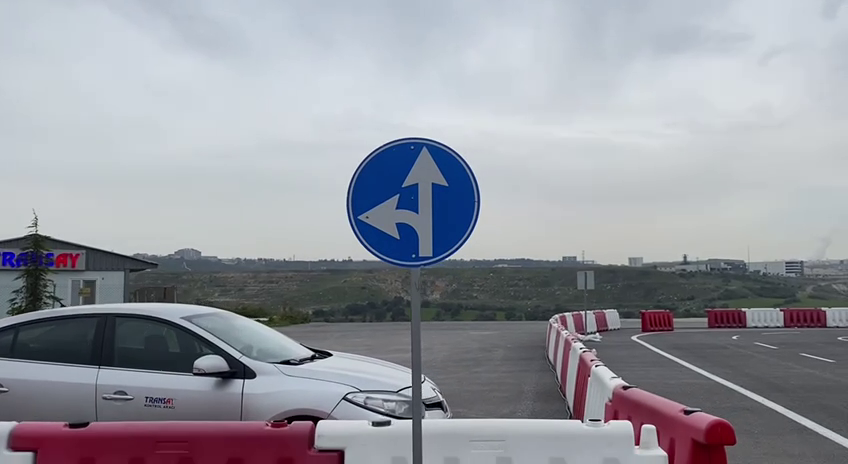forwardAndLeft: (344, 133, 484, 269)
